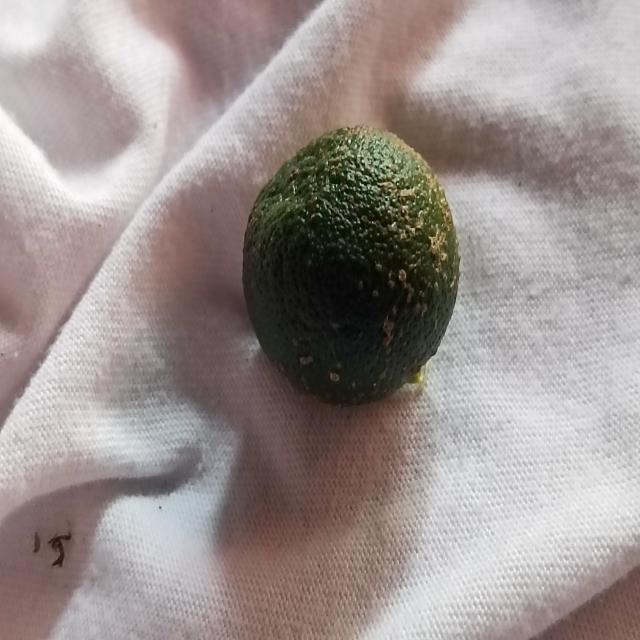scab: (241, 134, 461, 388)
